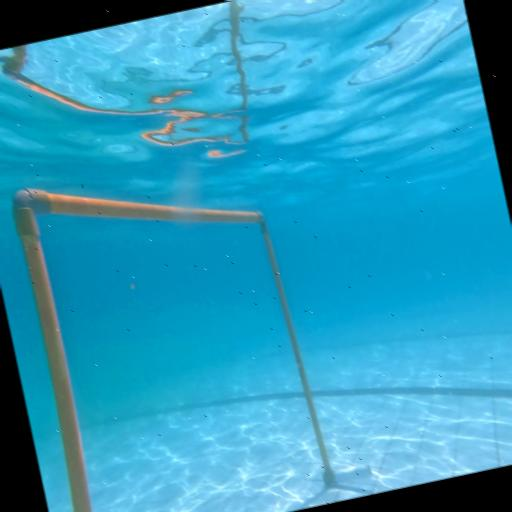gate: (5, 126, 373, 512)
